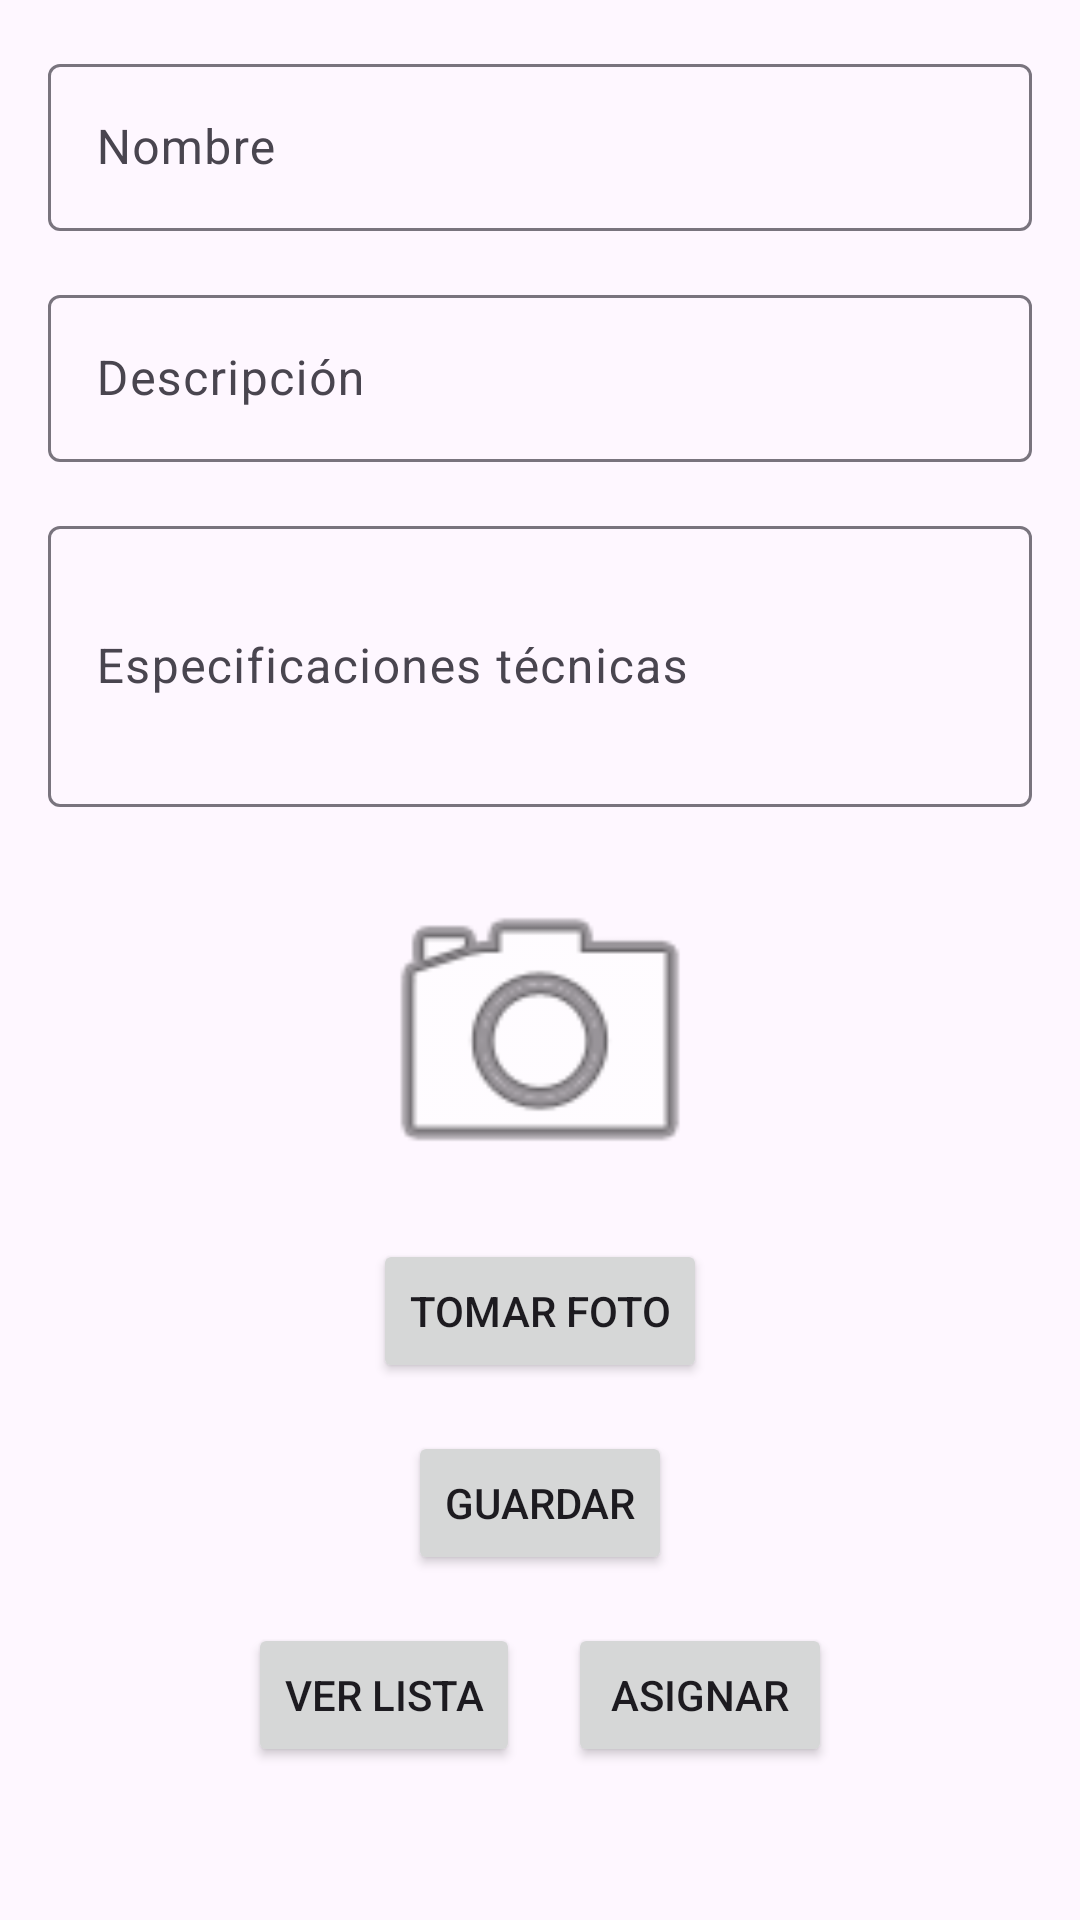

Icons on this 1080px x 1920px Android screen, each with its box as region(x1, y1, x2, y2):
Foto de la herramienta: region(401, 918, 679, 1140)
